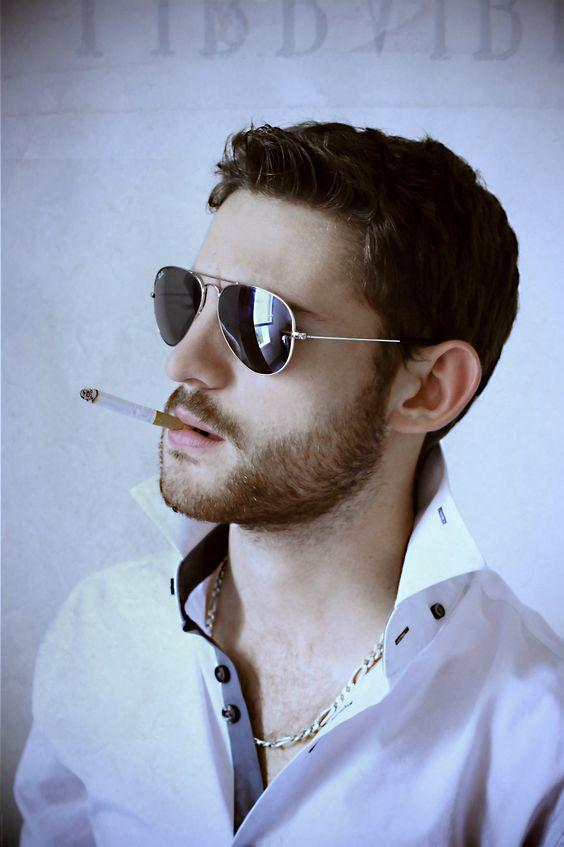cigarette: (79, 387, 188, 431)
